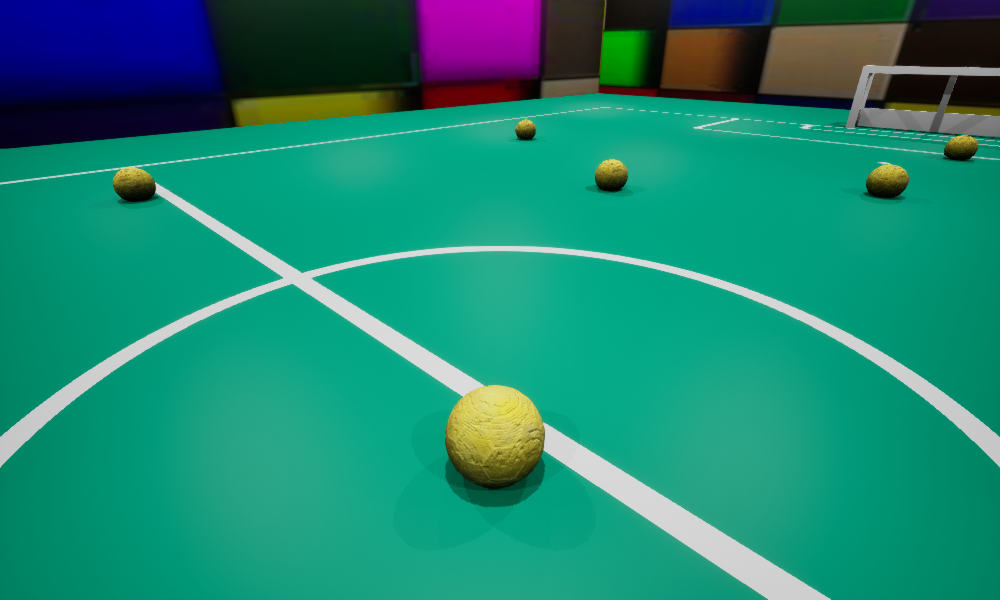b: (445, 385, 544, 487), (112, 167, 155, 201), (866, 164, 908, 197), (595, 159, 627, 190), (944, 135, 977, 159), (515, 119, 535, 139)
g: (845, 65, 999, 136)
